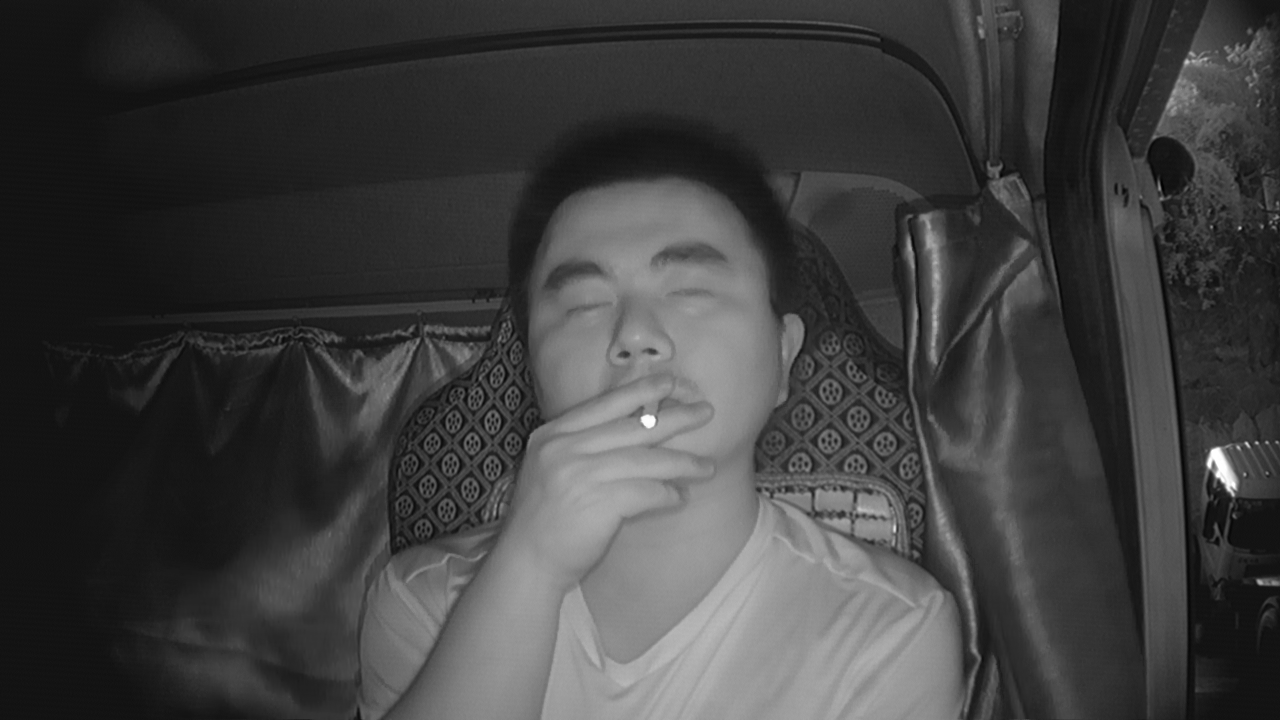hand: (549, 362, 703, 537)
